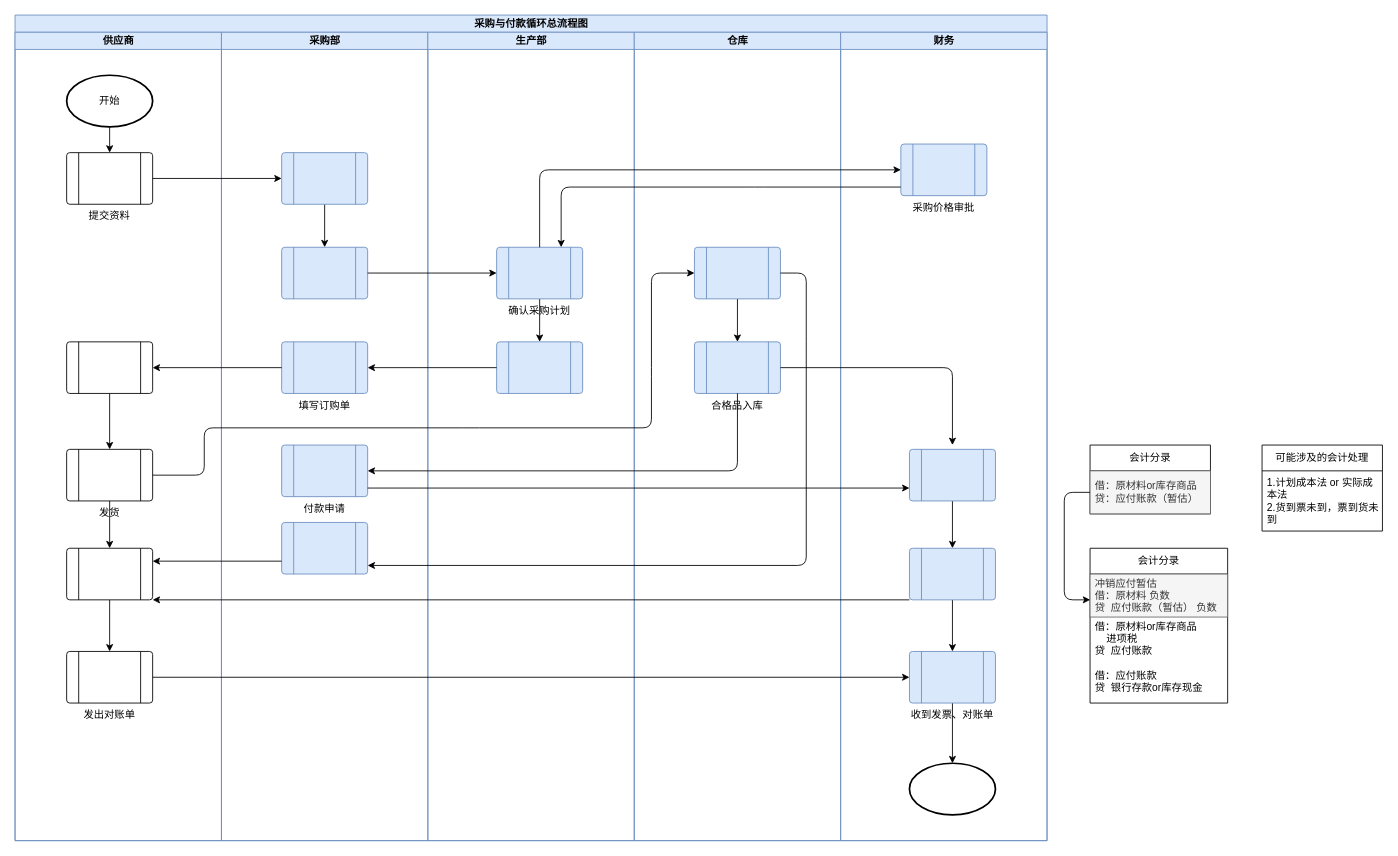
The diagram is 1398 pixels wide and 856 high, and some of its shapes have lost their labels. The centre of each missing label's shape, as x and y in pixels:
制定采购计划: (x=324, y=272)
填写请购单: (x=539, y=367)
备货: (x=109, y=367)
开具发票: (x=109, y=573)
确认应付: (x=952, y=474)
确认打款: (x=952, y=573)
结束: (x=952, y=788)
维护供应商清单: (x=324, y=178)
退货: (x=324, y=548)
验收: (x=737, y=272)
